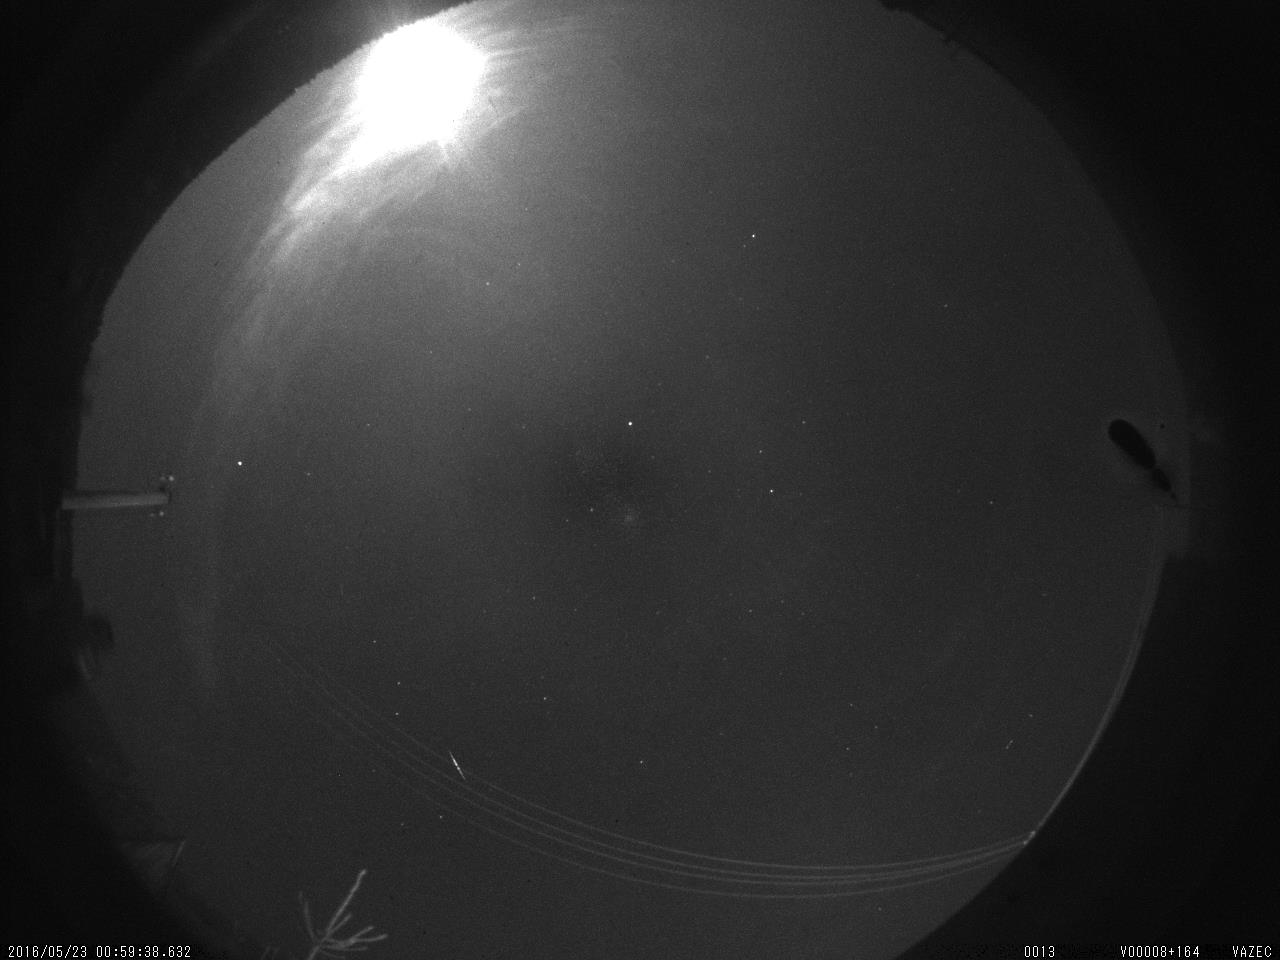meteor: (431, 738, 487, 792)
